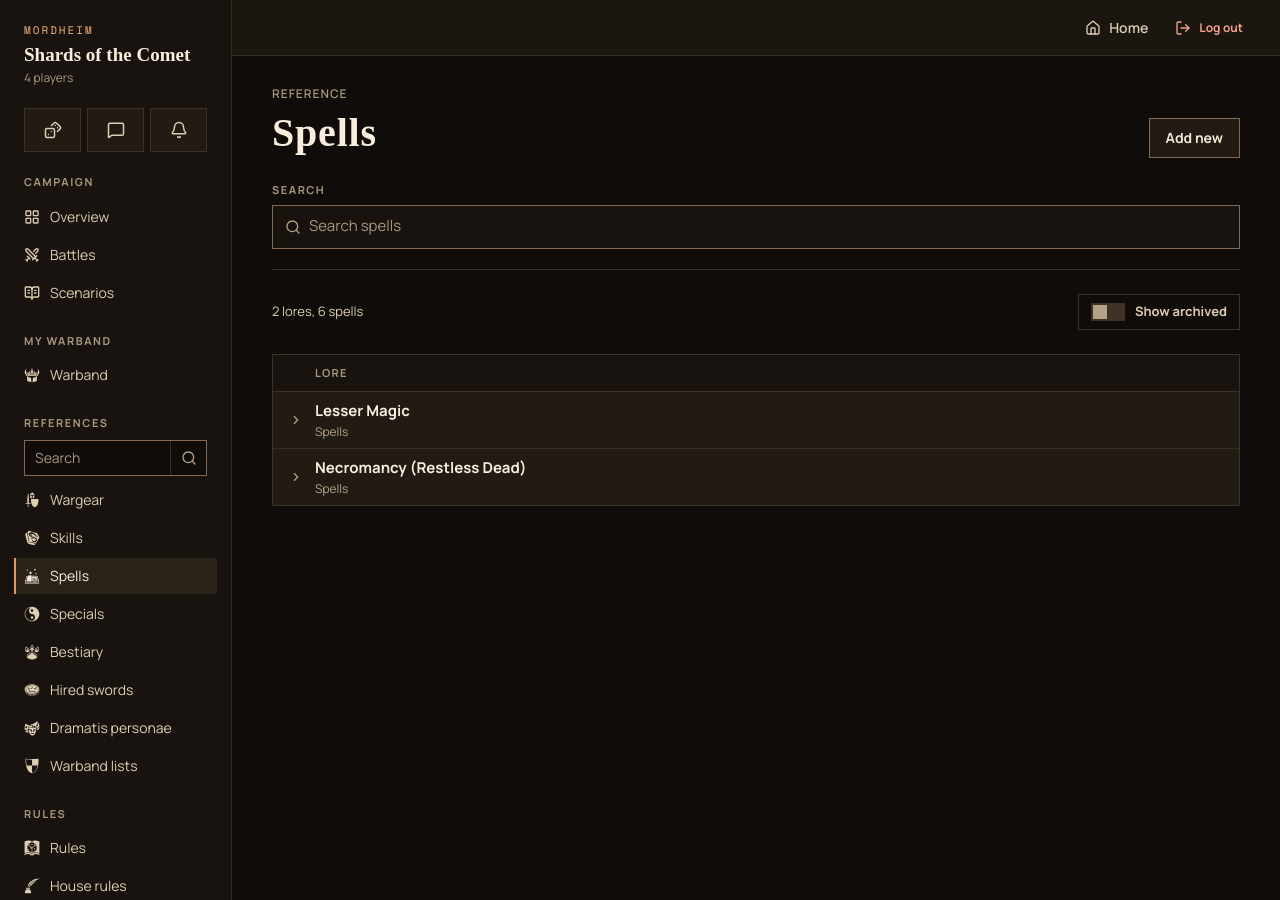
Scenario: The Spells page › is a row per lore in play, which opens to its D6 table, a spell's row to its rules
Later steps or results of the test are not shown.
Expected: the text "Difficulty" is not shown
Expected: the text "2 lores, 6 spells" is shown, [272,302,364,321]
Click the button "Necromancy (Restless Dead) Spells".
click(421, 468)  # box [273,449,1239,505]
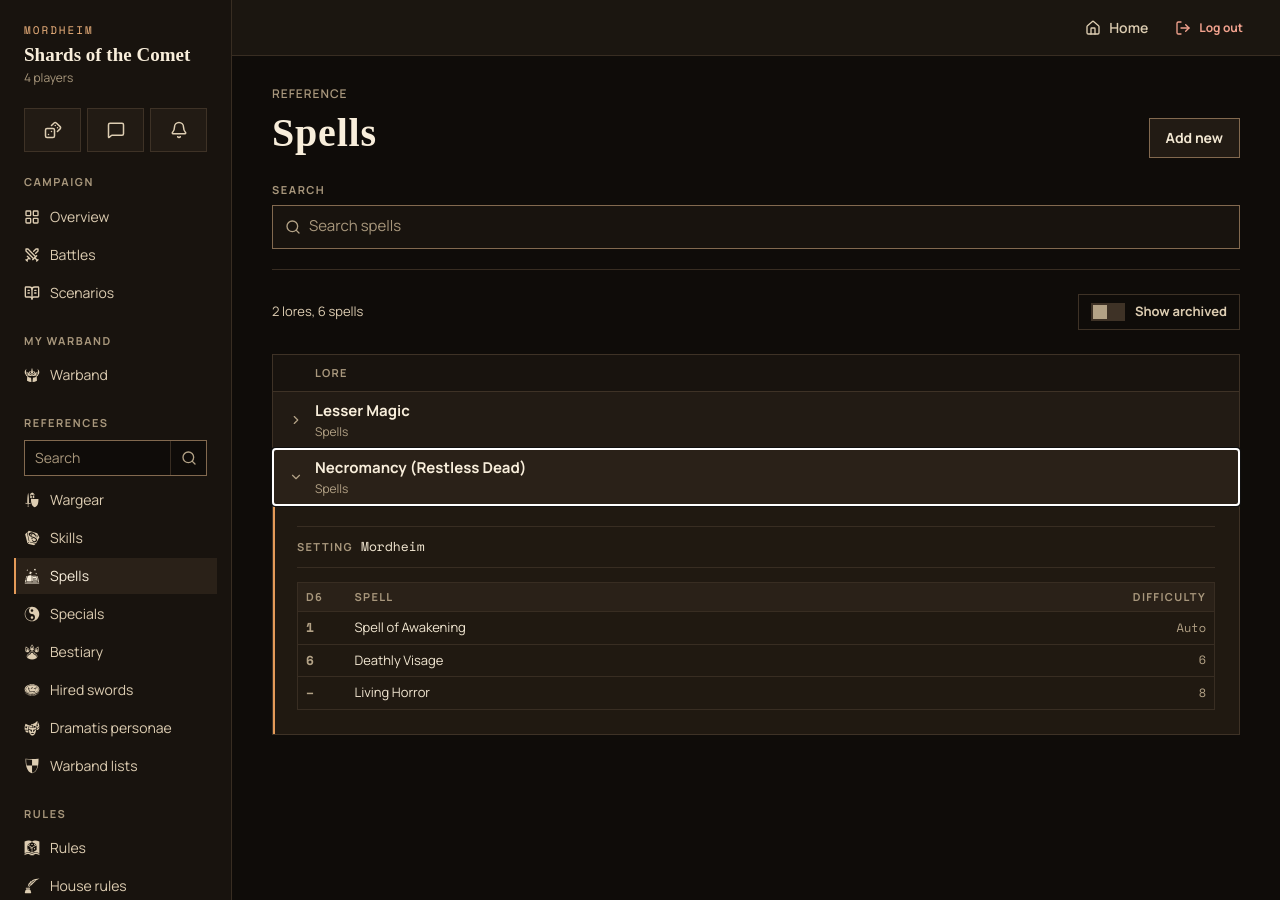
Expected: the text "Necromancy (Restless Dead)" is shown, [315,457,526,478]
Click the button "Living Horror".
click(392, 692)  # box [354,683,856,702]
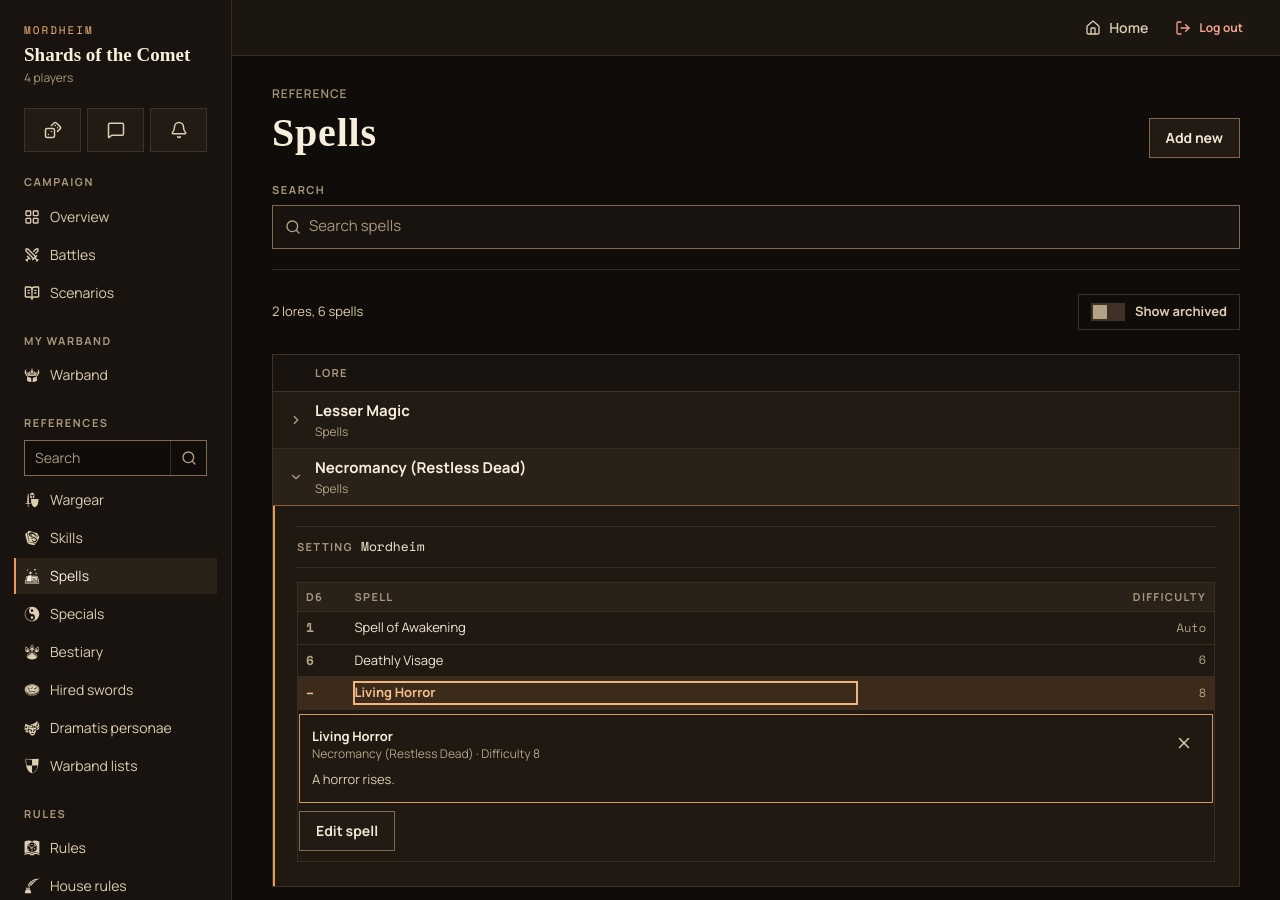
Now the text "A horror rises." is shown, box [312,770,395,788]
Now the button "Edit spell" is shown, box [299,810,395,850]
Click the button named "Close rules".
click(1184, 742)  # box [1168,726,1200,758]
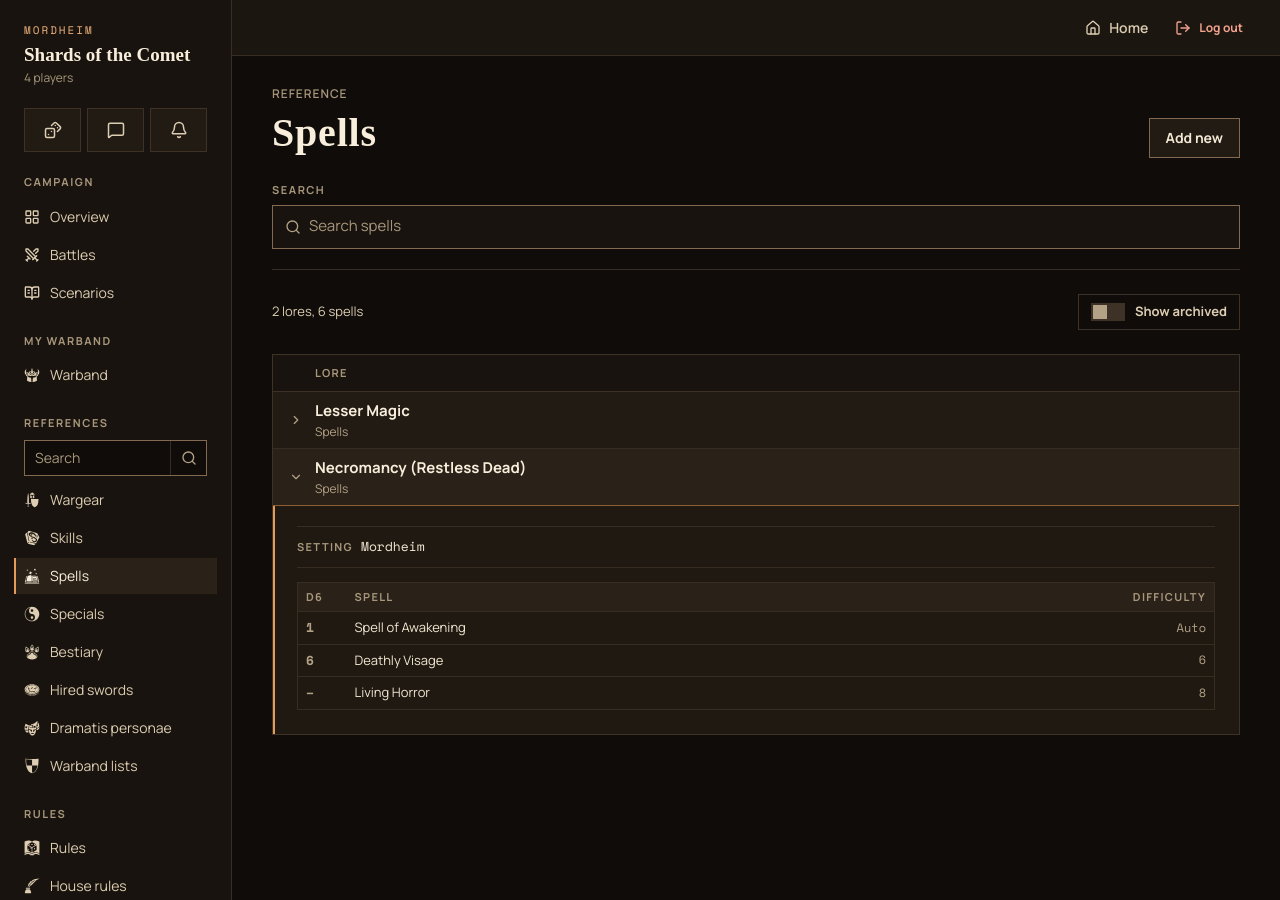
Expected: the text "Necromancy (Restless Dead)" is shown, [315,457,526,478]
Now the text "A horror rises." is gone
